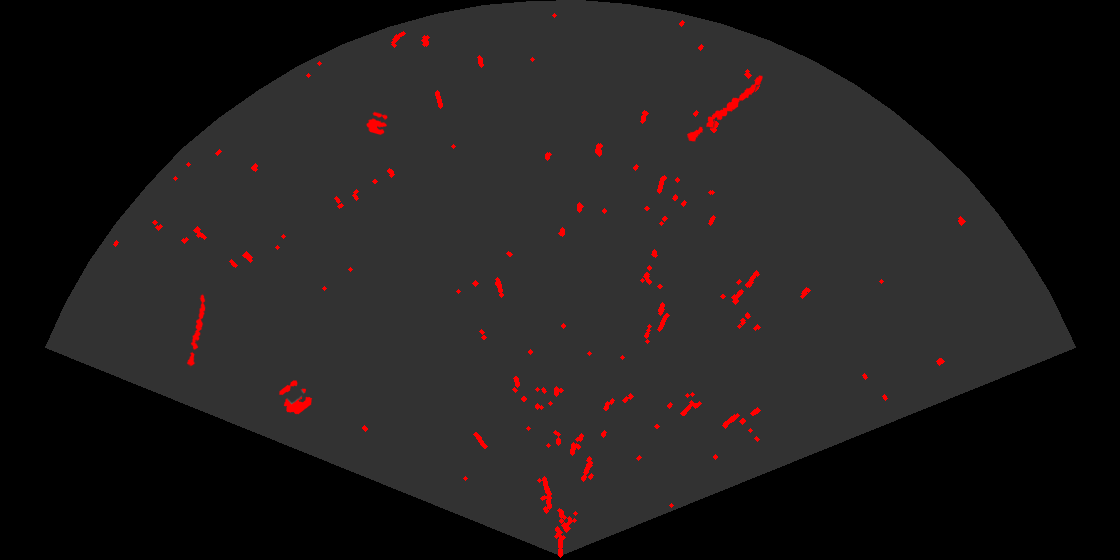ball: (278, 379, 314, 416), (365, 110, 389, 136)
chain: (685, 74, 764, 143), (185, 292, 207, 369)
